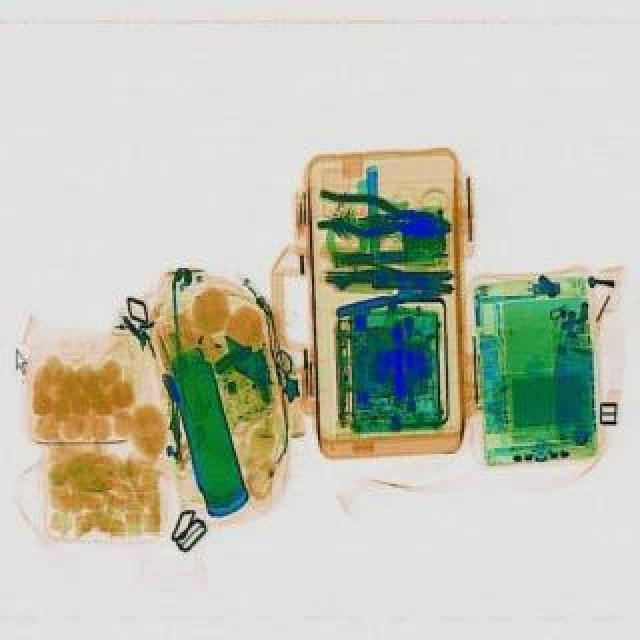wrench: (312, 182, 452, 246)
